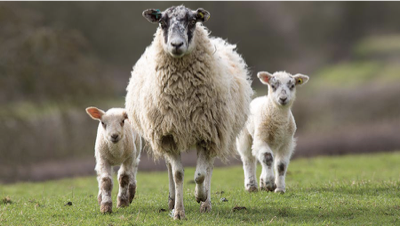koyun: (125, 5, 255, 220), (235, 65, 310, 192), (83, 104, 141, 213)
